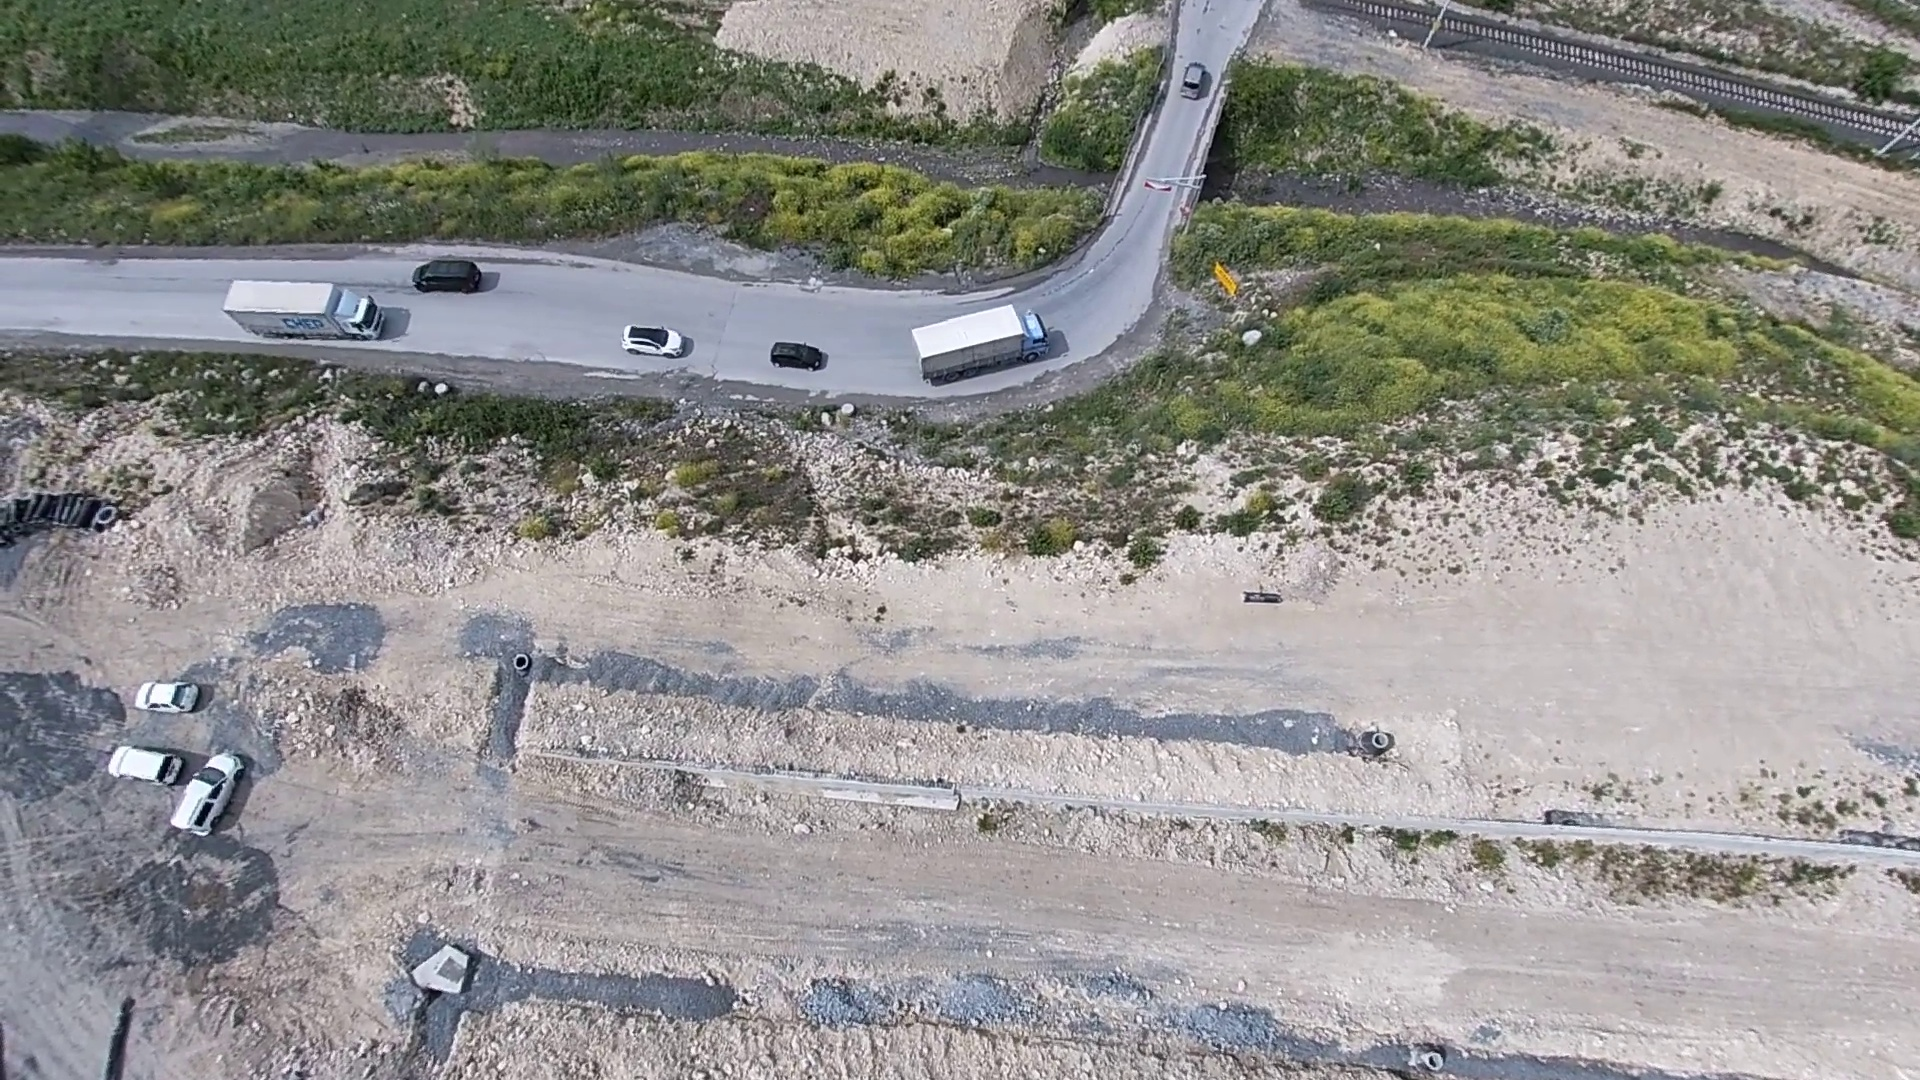arac: (218, 273, 386, 345), (913, 302, 1050, 386), (165, 744, 252, 840), (100, 738, 182, 791), (407, 255, 487, 295), (131, 674, 200, 717), (618, 319, 688, 357), (769, 336, 824, 371), (1178, 59, 1216, 102)
